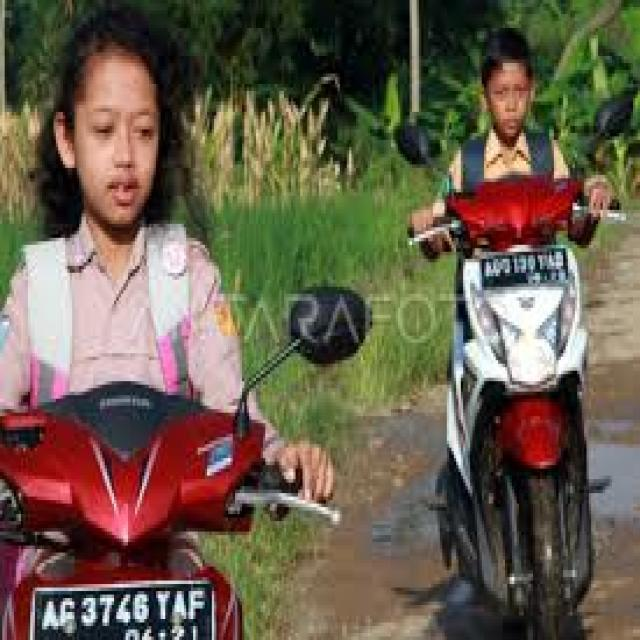Number Plate: (31, 581, 214, 639), (480, 247, 568, 288)
Rearview Mirror: (289, 287, 370, 364), (595, 90, 637, 140), (394, 122, 429, 165)
